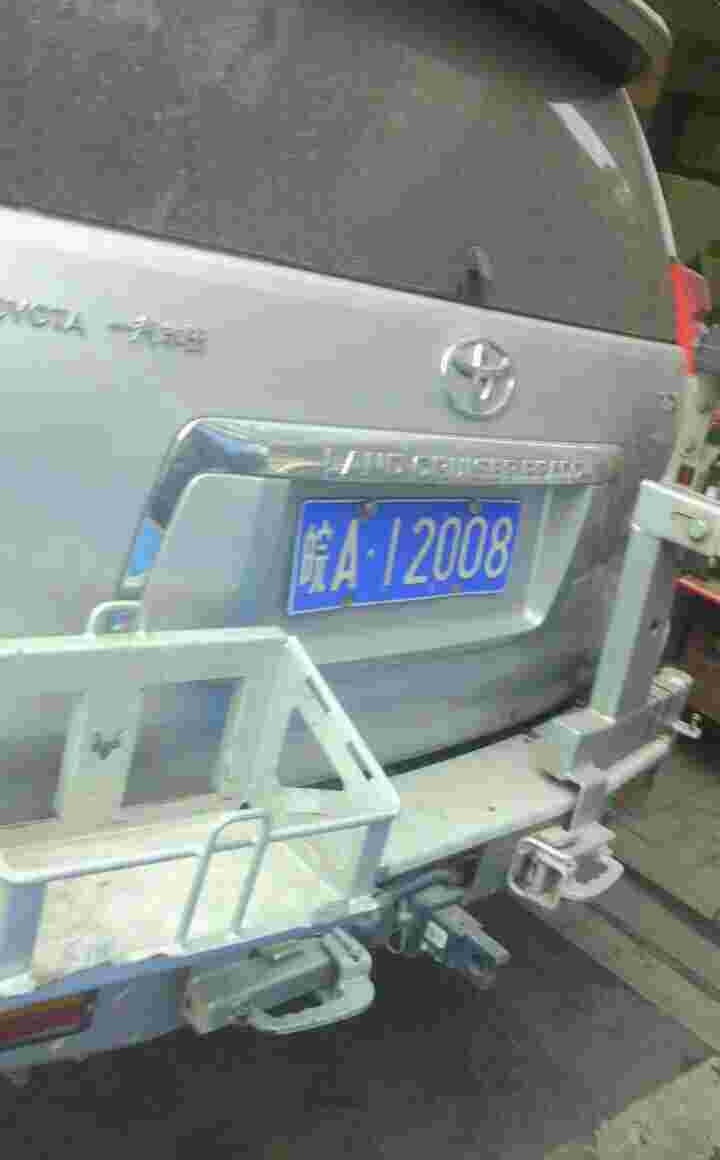license_plate: (292, 495, 525, 619)
